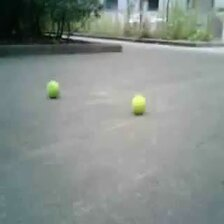tennis: (130, 93, 146, 113), (47, 80, 59, 98)
